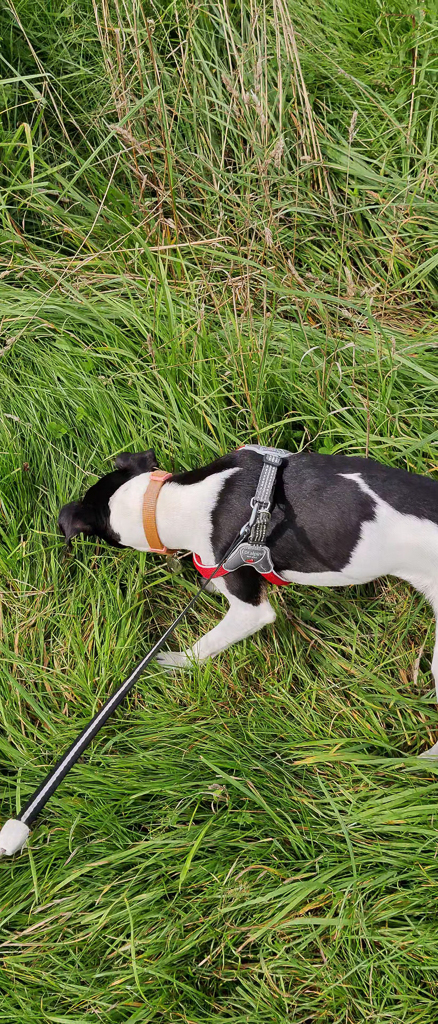Dog: (49, 430, 438, 703)
